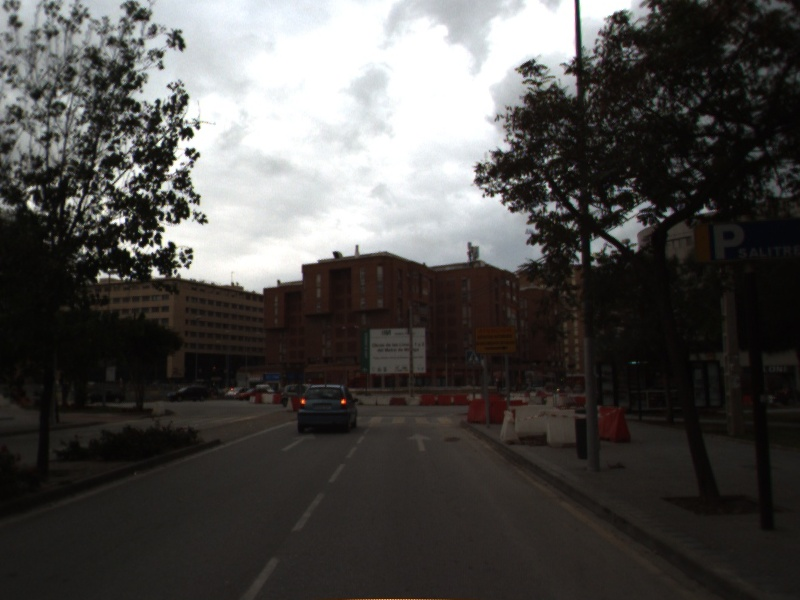STRAIGHT: (278, 431, 318, 454), (405, 430, 435, 453)
